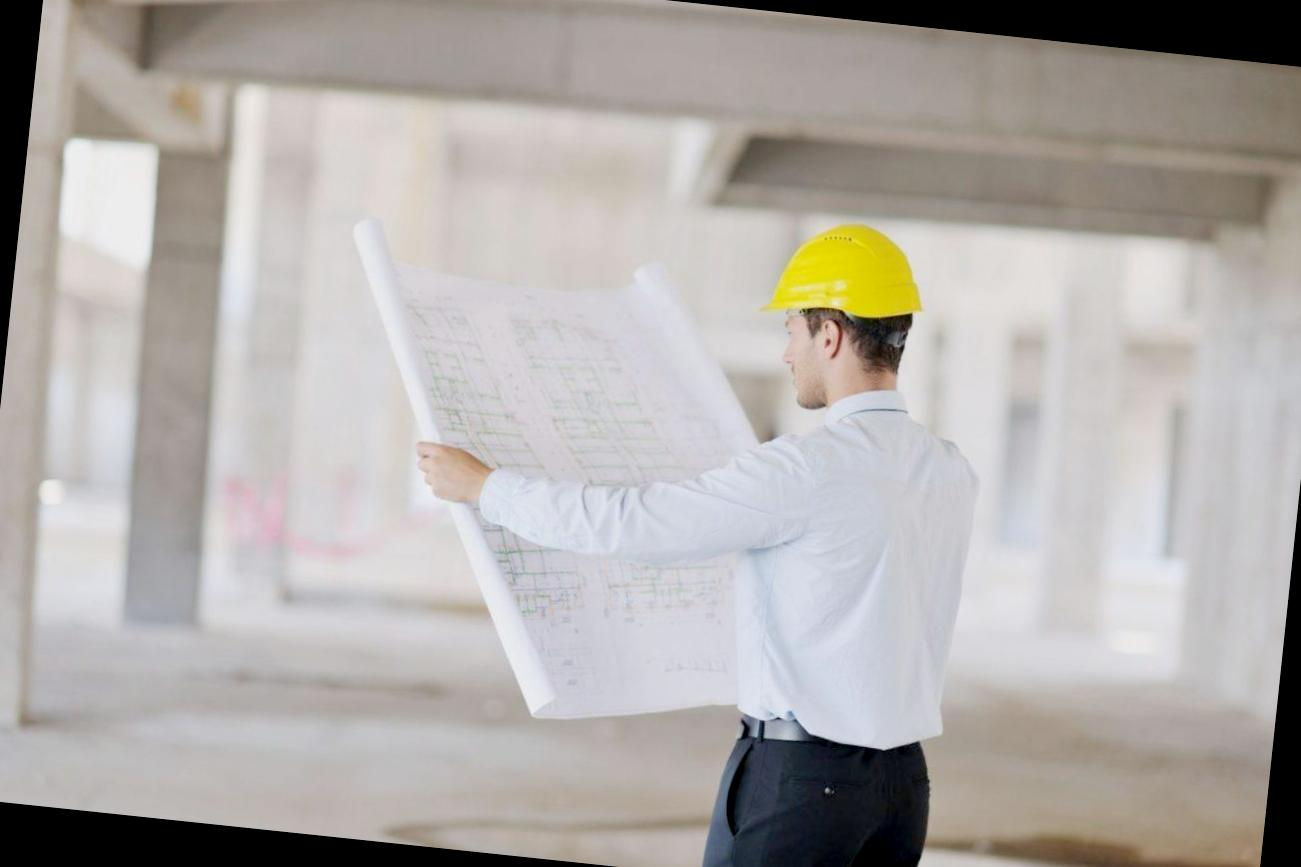helmet: (740, 202, 948, 360)
no_vest: (694, 366, 1000, 756)
person: (660, 199, 1013, 867)
